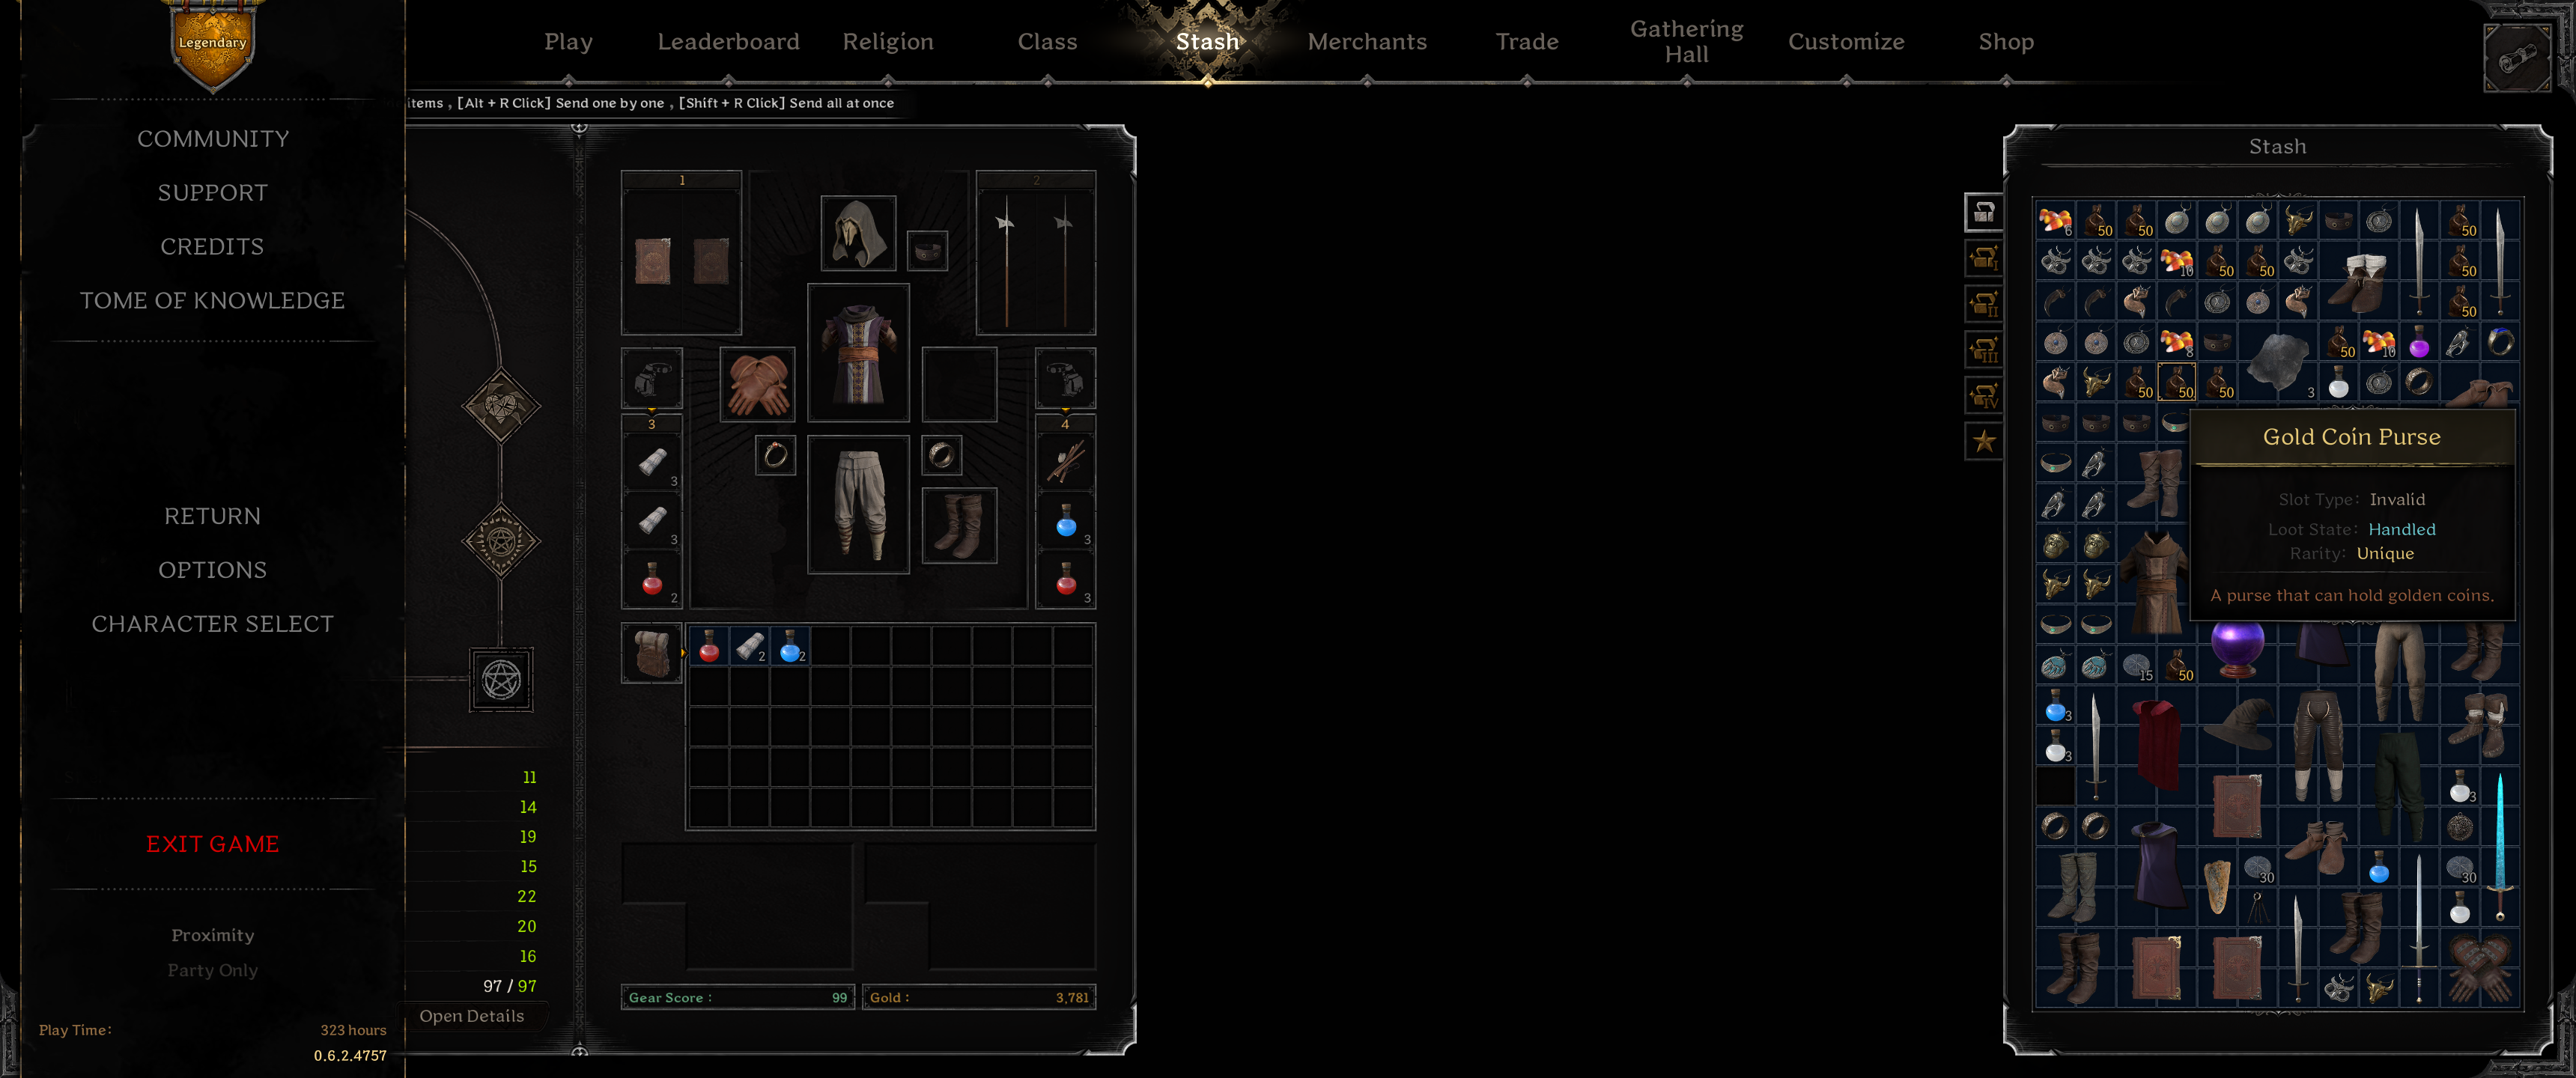Tooltip: (2188, 408, 2517, 623)
